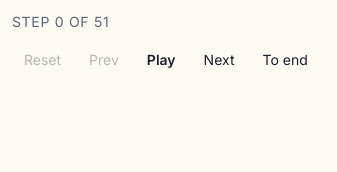
Controls › Play button toggles to Pause label
Step 1. Click the button "Play" → coordinates (161, 60), box 135,44 -> 188,76
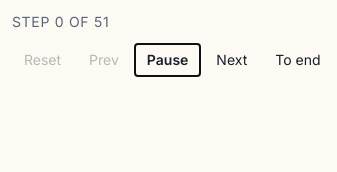
Now the button "Pause" is shown, box 135,44 -> 200,76
